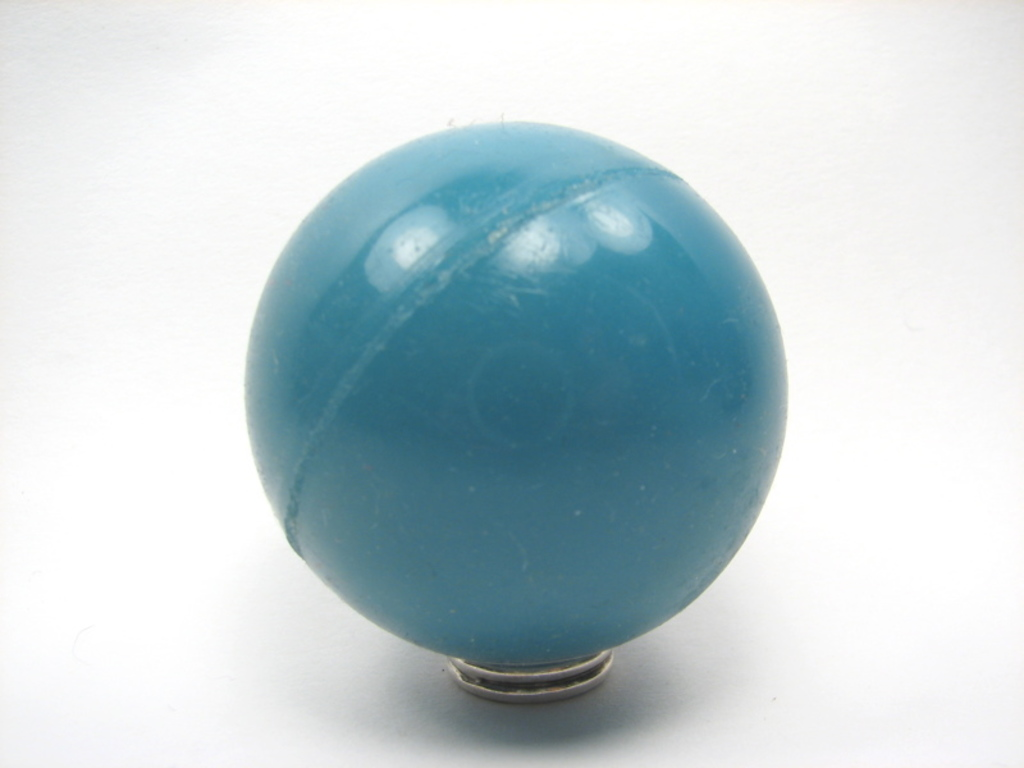Ball: (243, 119, 790, 669)
